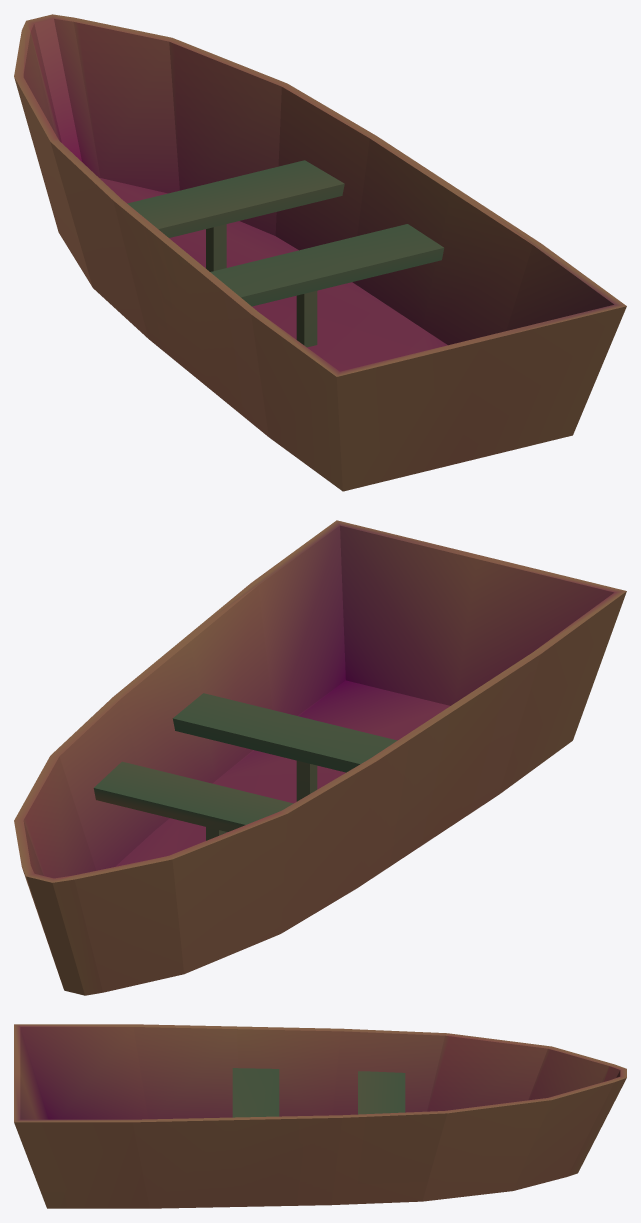
3 views of the same model, one above another, from view 1: azimuth 30°, elevation 25°; view 2: azimuth 150°, elevation 25°; view 3: azimuth 270°, elevation 25° (orthographic). The views are drawn at different scales.
Parts seen in each view (by area): view 1: hull, seat, seat.001, support, support.001; view 2: hull, seat, seat.001, support; view 3: hull, seat, seat.001.
Part boxes in pixels (x1,y1,x2,y2): hull: (14,14,626,491); seat: (210,224,444,306); seat.001: (127,160,344,237); support: (296,290,317,347); support.001: (206,224,226,271); hull: (14,520,626,995); seat: (172,693,397,772); seat.001: (93,761,293,831); support: (296,760,317,801); hull: (14,1024,626,1208); seat: (232,1068,279,1117); seat.001: (358,1071,405,1114).
Bounding box in the file's own units: 1.89 × 0.8692 × 5.
